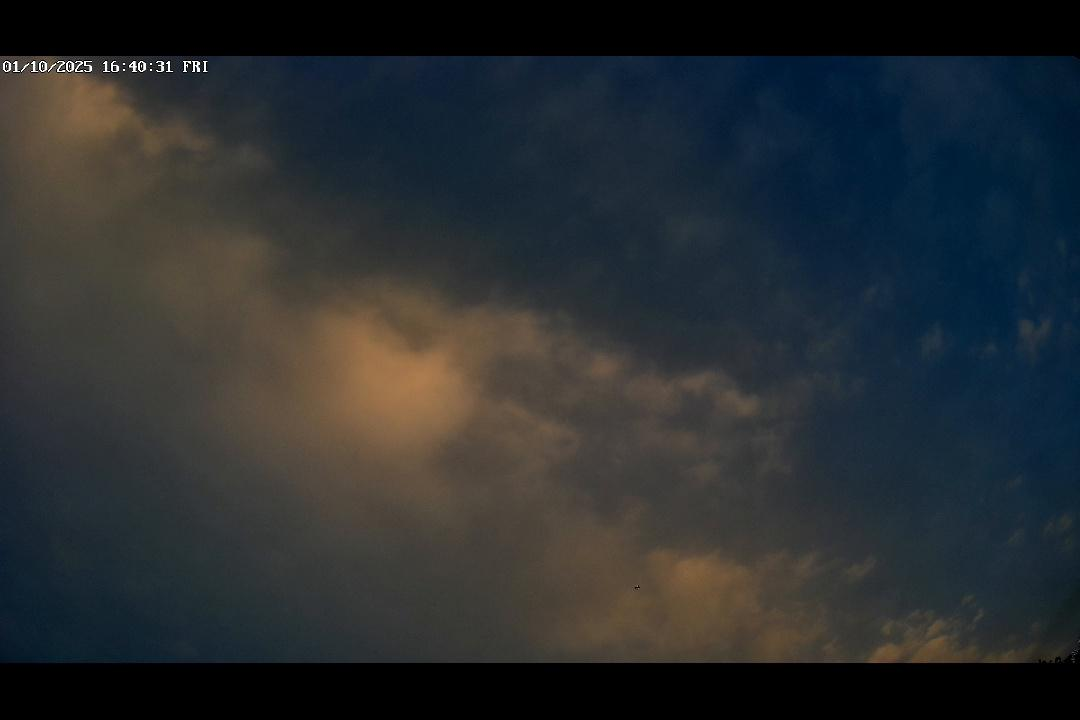Plane: (632, 581, 644, 595)
